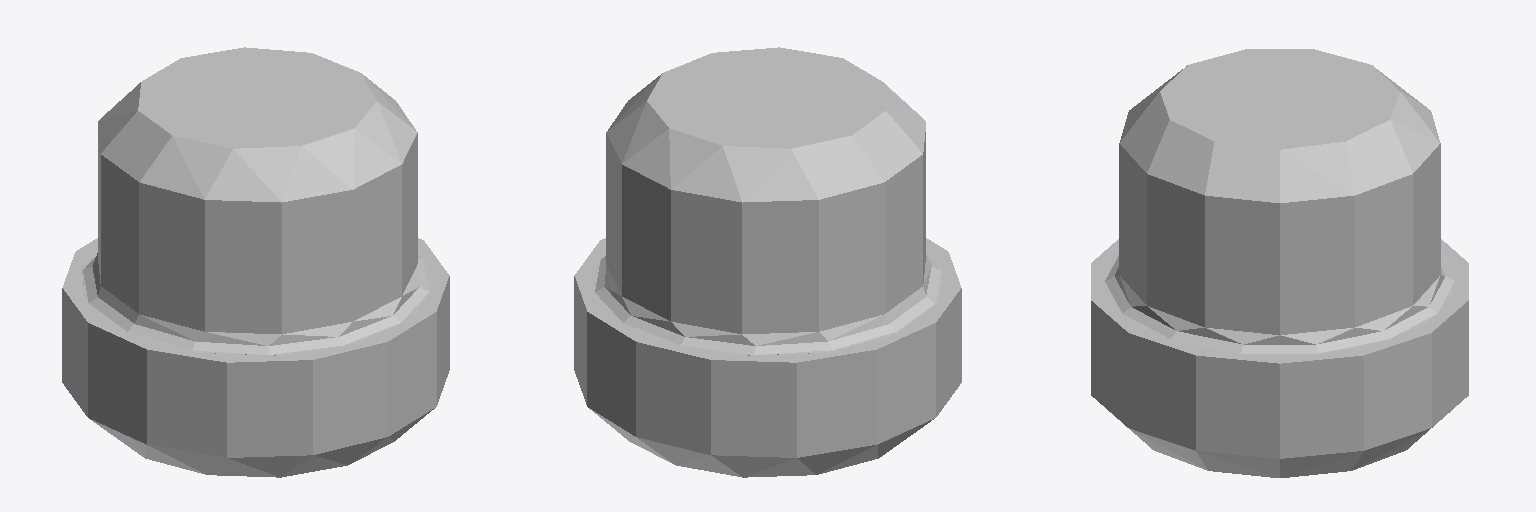
Rendered from 68. Стопор втулки.obj.
3 renders of one model, left to right at view 1: azimuth 30°, elevation 25°; view 2: azimuth 150°, elevation 25°; view 3: azimuth 270°, elevation 25°, orthographic.
Visible parts, largest first — view 1: Твердое тело1; view 2: Твердое тело1; view 3: Твердое тело1.
Boxes of the visible parts, x1,y1,x2,y2 form: Твердое тело1: [62, 47, 449, 477]; Твердое тело1: [574, 47, 961, 477]; Твердое тело1: [1091, 49, 1468, 477].
Size of the model in its own units: 4.8 by 4.3 by 4.68.